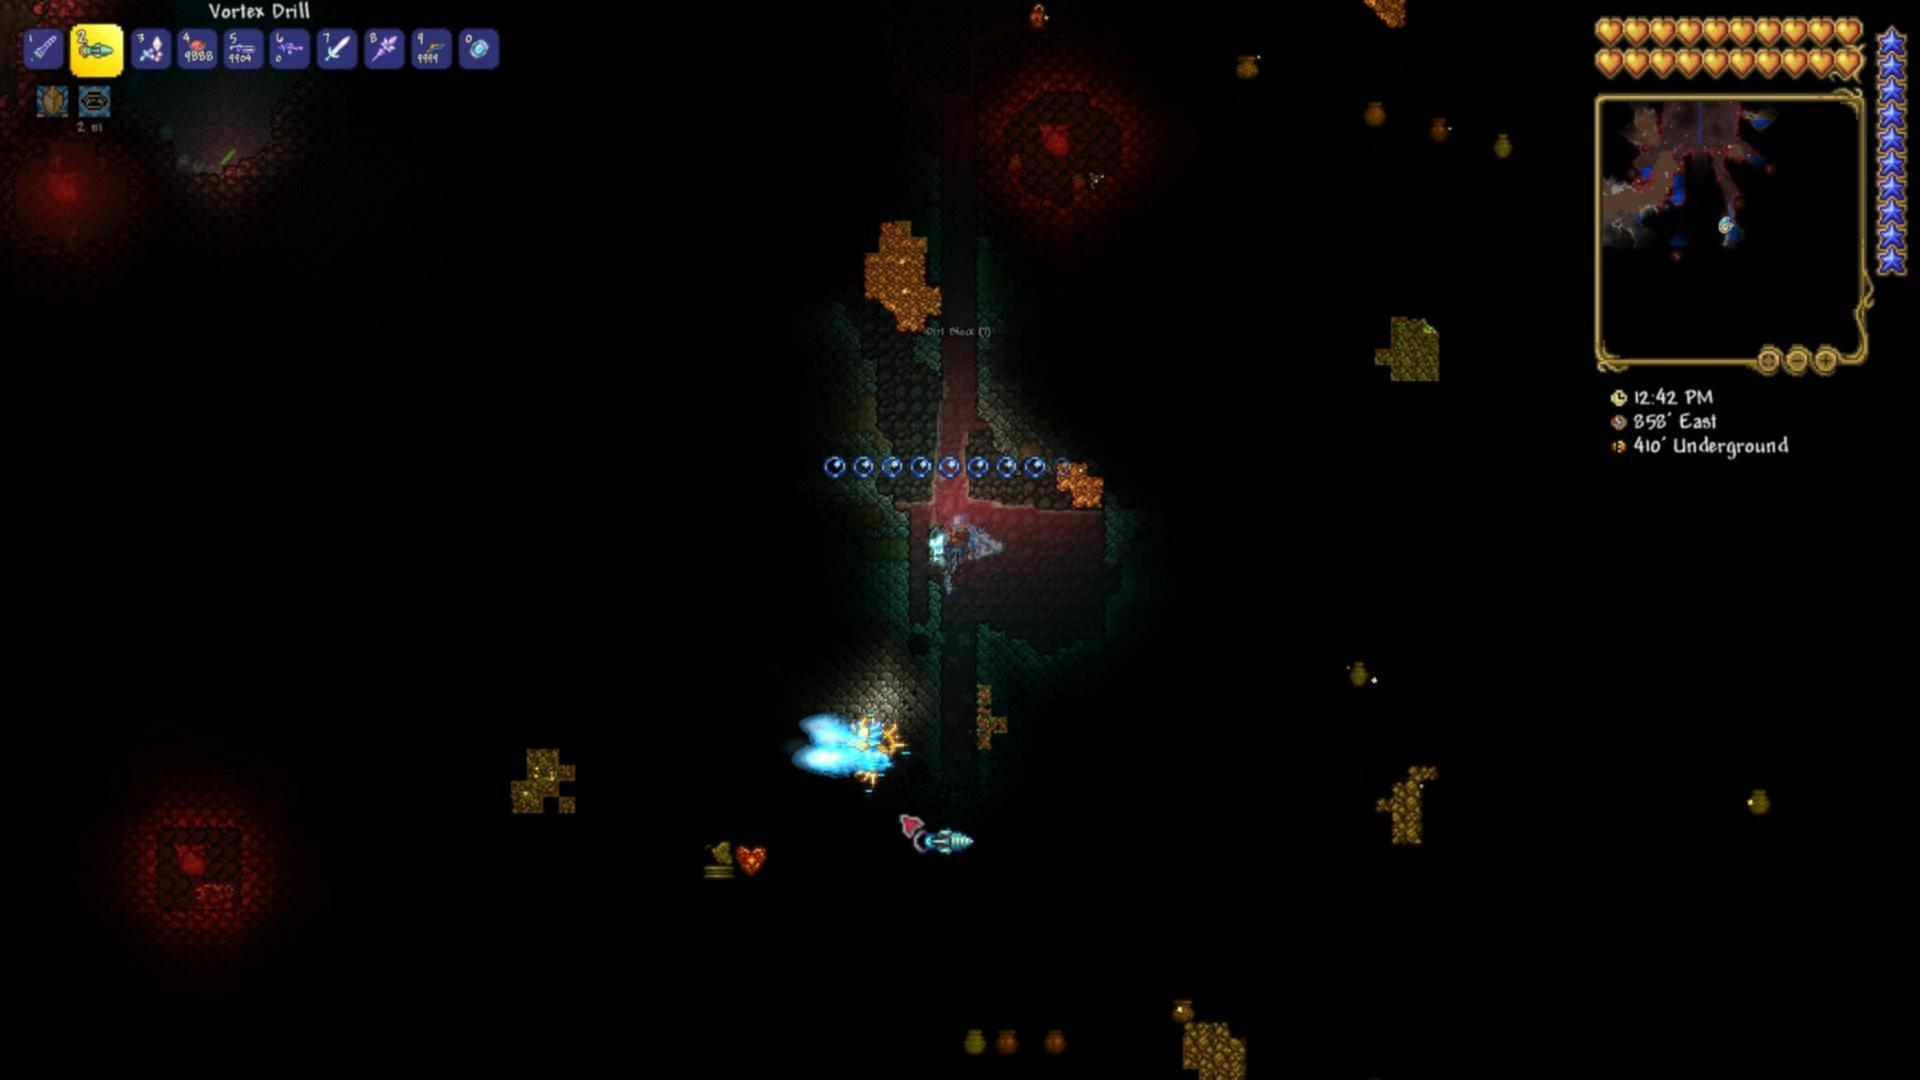lifeC: (735, 845, 769, 878)
mirror: (465, 36, 493, 63)
